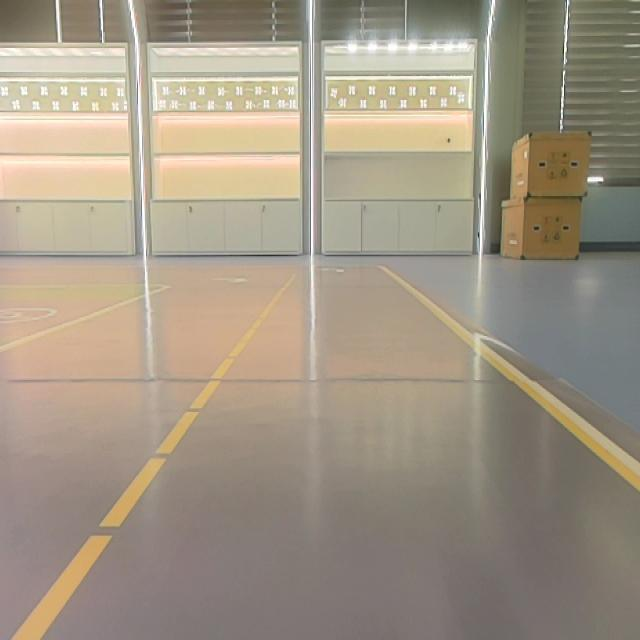left_lane: (12, 280, 292, 638)
right_lane: (388, 269, 640, 495), (0, 290, 151, 361)
